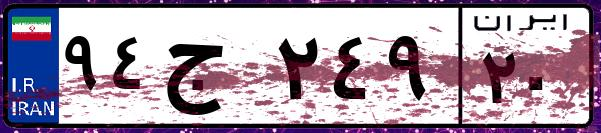0: (525, 38, 570, 115)
2: (270, 28, 330, 110), (475, 38, 525, 113)
4: (330, 28, 385, 110), (110, 28, 158, 98)
9: (385, 28, 445, 110), (57, 26, 110, 100)
ج: (158, 20, 270, 120)
